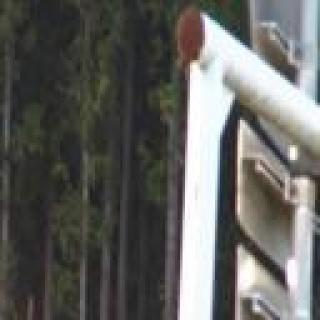fire: (0, 213, 13, 320)
